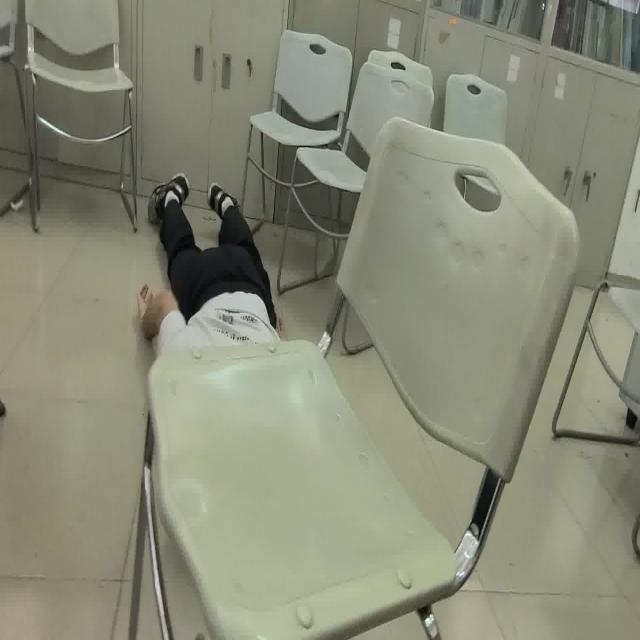fall: (133, 168, 285, 360)
